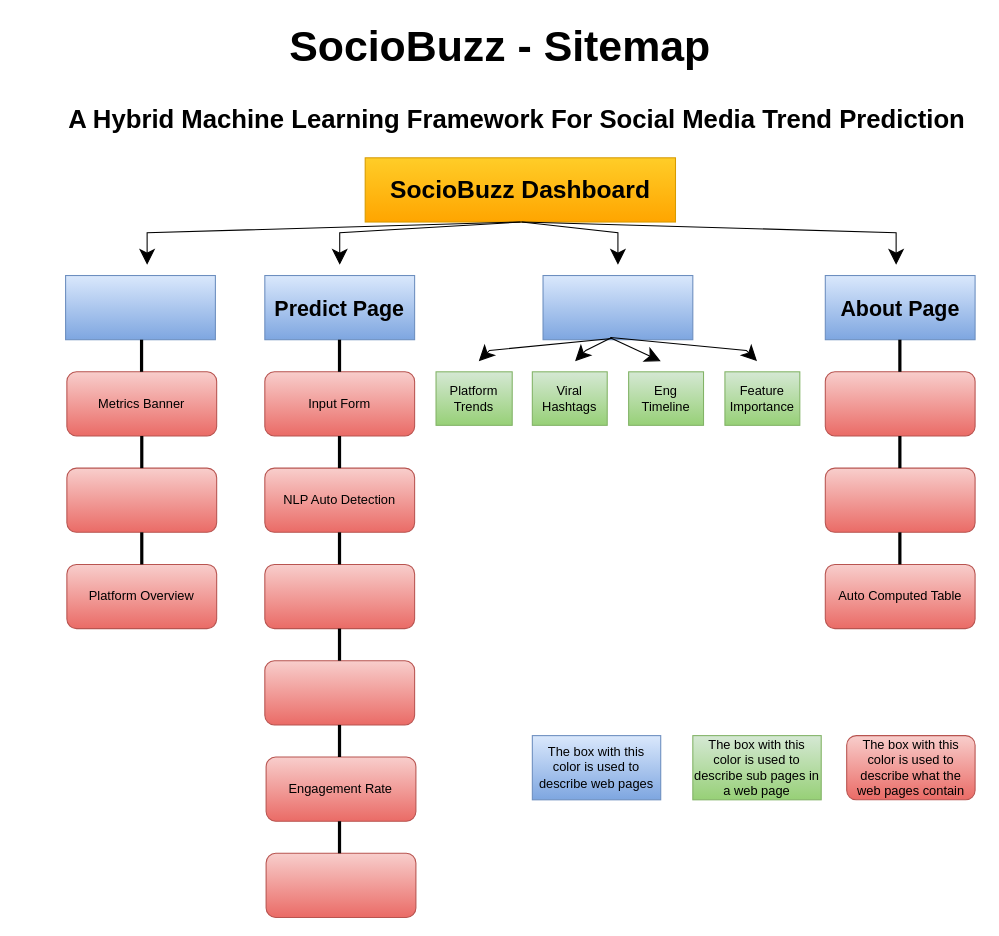
This 999x936 diagram has some shape labels left out. Each missing label, with the centre of its shape:
"Analytics Page" belongs at point (617, 307).
"Engagement Level" belongs at point (339, 596).
"Home Page" belongs at point (140, 307).
"How It Works" belongs at point (141, 499).
"Model Architecture" belongs at point (899, 403).
"Posting Tips" belongs at point (340, 885).
"User Table" belongs at point (899, 499).
"Viral Prediction" belongs at point (339, 692).
